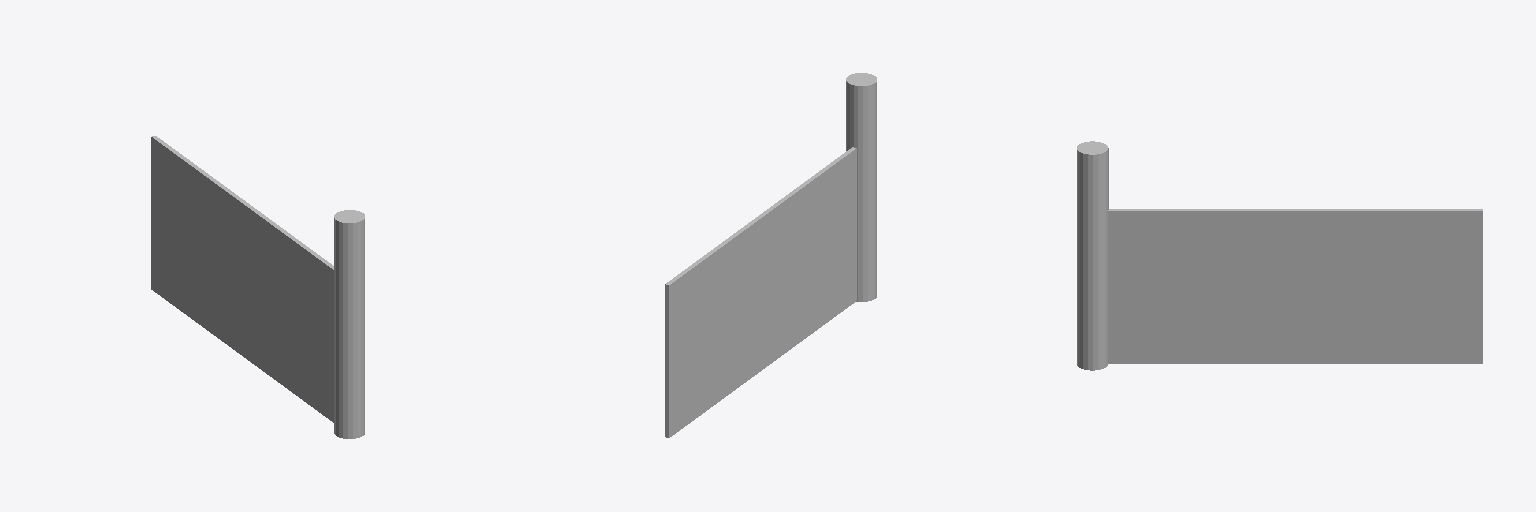
File: walldouble6.obj
3 renders of one model, left to right at view 1: azimuth 30°, elevation 25°; view 2: azimuth 150°, elevation 25°; view 3: azimuth 270°, elevation 25°, orthographic.
Visible parts, largest first — view 1: walldouble6; view 2: walldouble6; view 3: walldouble6.
Part boxes in pixels (x1,y1,x2,y2): walldouble6: (151,136,364,438); walldouble6: (665,73,876,437); walldouble6: (1077,141,1482,370).
Size of the model in its own units: 3.28 by 24.63 by 42.01.